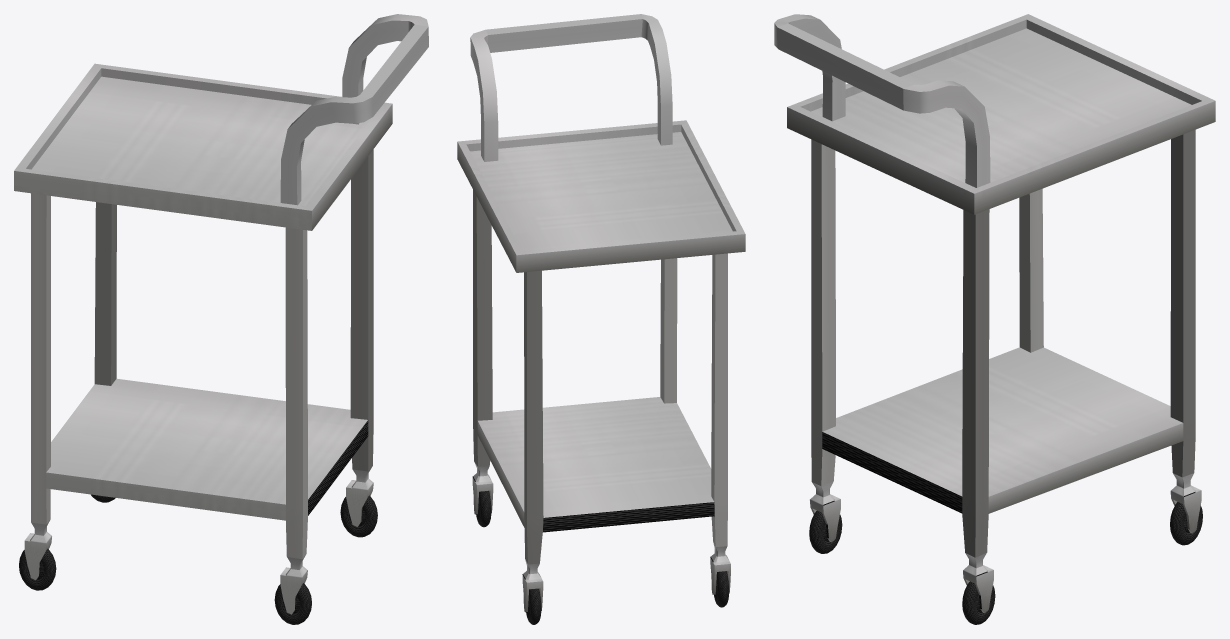
Rendered from chariot_petit_1.fbx.
3 views of the same model, side by side, from view 1: azimuth 30°, elevation 25°; view 2: azimuth 150°, elevation 25°; view 3: azimuth 270°, elevation 25° (orthographic). The views are drawn at different scales.
Visible parts, largest first — view 1: chariot:chariot; view 2: chariot:chariot; view 3: chariot:chariot.
Part boxes in pixels (bbox=[...]): chariot:chariot: bbox=[14, 14, 428, 624]; chariot:chariot: bbox=[457, 14, 745, 624]; chariot:chariot: bbox=[774, 14, 1215, 624].
Size of the model in its own units: 133 by 187 by 135.
